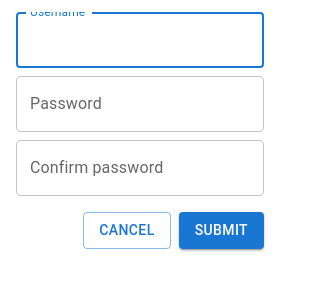
Test: requires that passwords match
Step 1. Type "username" into the field labelled "Username" → x=140, y=40, box [16,12,264,68]
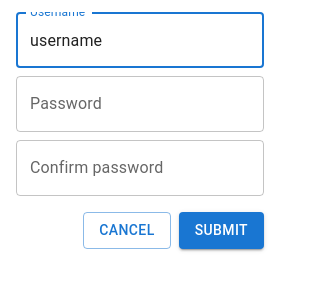
Step 2. Type "Password1" into the password field labelled "Password" → x=140, y=104, box [16,76,264,132]
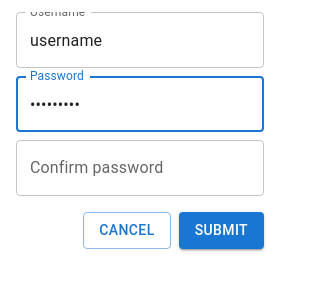
Step 3. Type "Password2" into the password field labelled "Confirm password" → x=140, y=168, box [16,140,264,196]
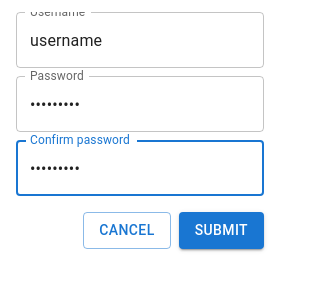
Step 4. Click the button "Submit" → x=221, y=230, box [179,212,264,248]
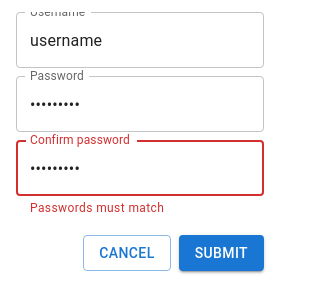
Result: the text "Passwords must match" is shown at [30,201,164,215]
